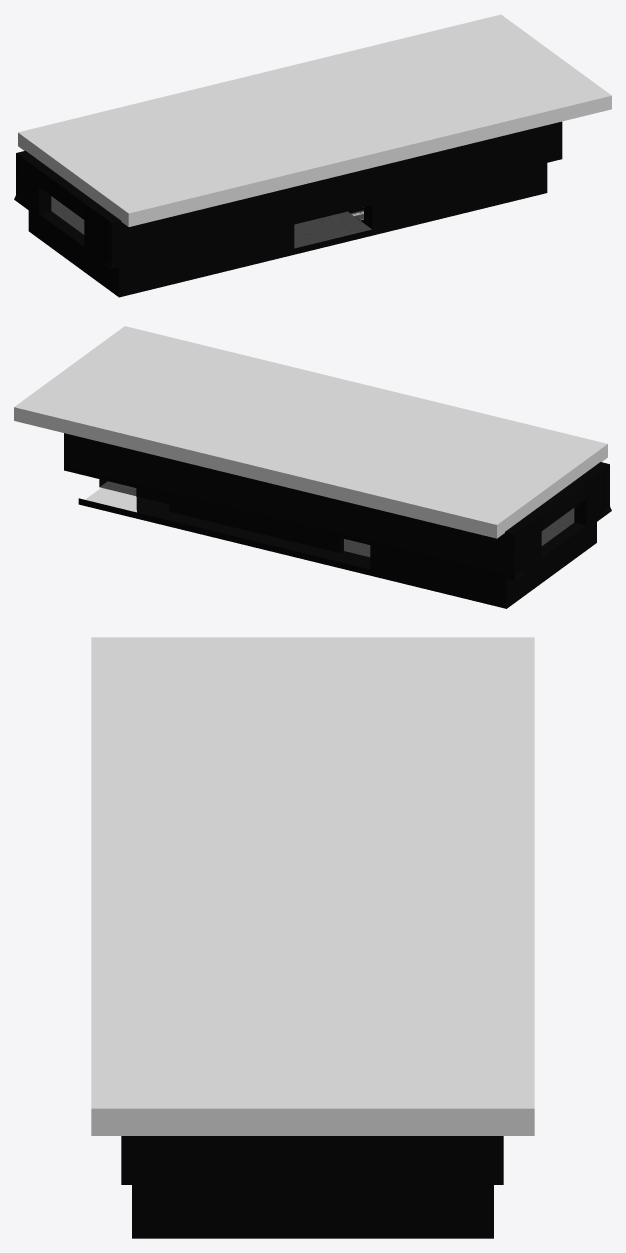
File: ship.glb
3 views of the same model, one above another, from view 1: azimuth 30°, elevation 25°; view 2: azimuth 150°, elevation 25°; view 3: azimuth 270°, elevation 25° (orthographic). The views are drawn at different scales.
Visible parts, largest first — view 1: Cube.003, Cube; view 2: Cube.003, Cube; view 3: Cube.003, Cube.
Boxes of the visible parts, bbox=[...] form: Cube.003: bbox=[18, 14, 611, 226]; Cube: bbox=[14, 121, 562, 297]; Cube.003: bbox=[14, 326, 607, 538]; Cube: bbox=[64, 433, 611, 608]; Cube.003: bbox=[91, 637, 534, 1135]; Cube: bbox=[121, 1136, 503, 1238].
Size of the model in its own units: 189 by 33.42 by 73.37.
5 materials, 2 textured.
